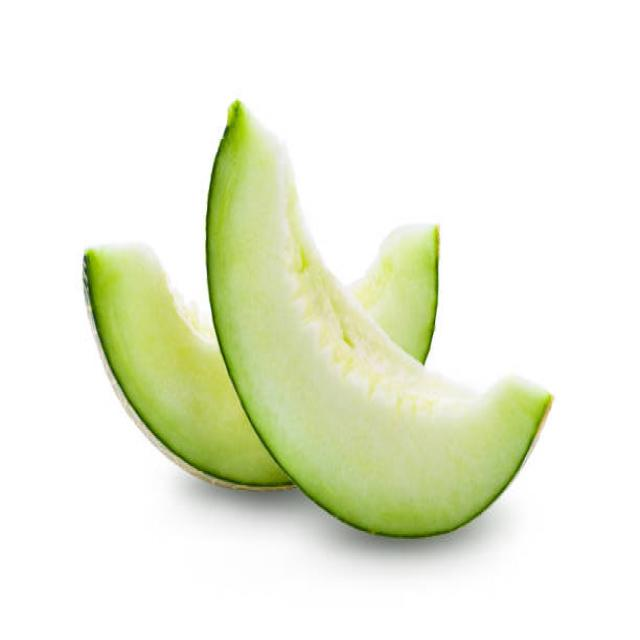melon: (204, 98, 556, 537)
